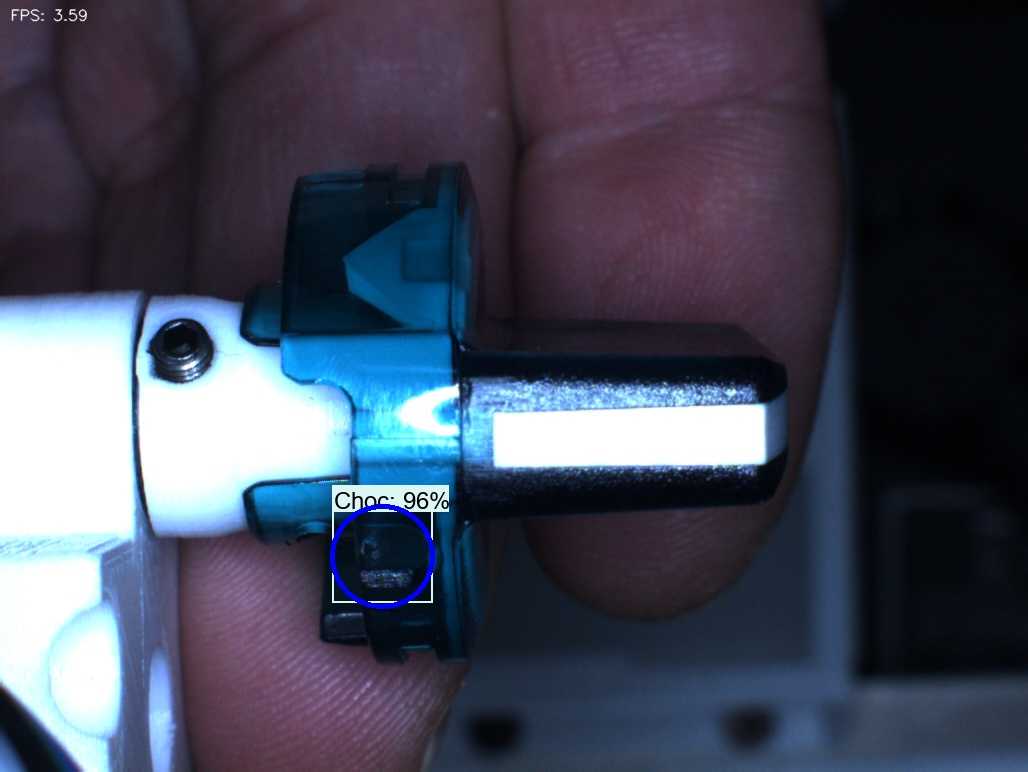DentOk: (322, 224, 401, 319)
